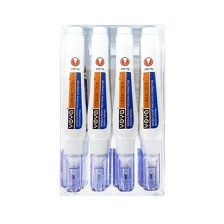correction_fluid: (57, 24, 89, 194), (111, 25, 142, 194), (84, 24, 115, 192), (136, 25, 166, 193)
plastic_box: (54, 20, 170, 201)
